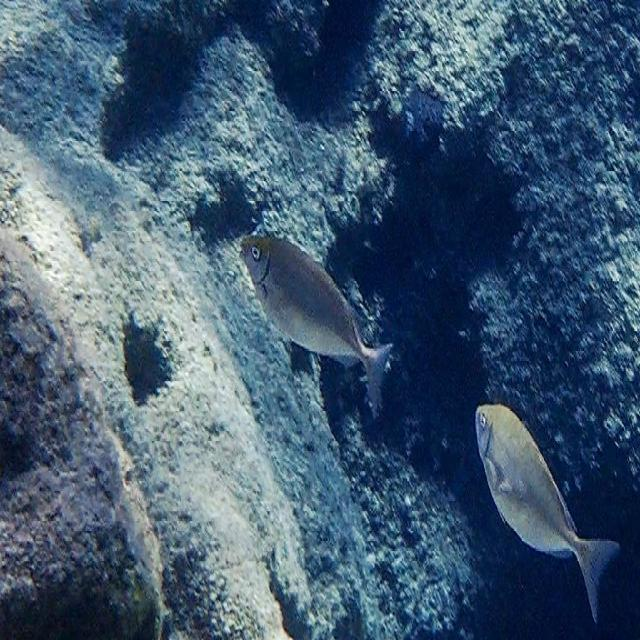Sokar Baligi: (466, 390, 624, 632), (235, 213, 398, 425)
